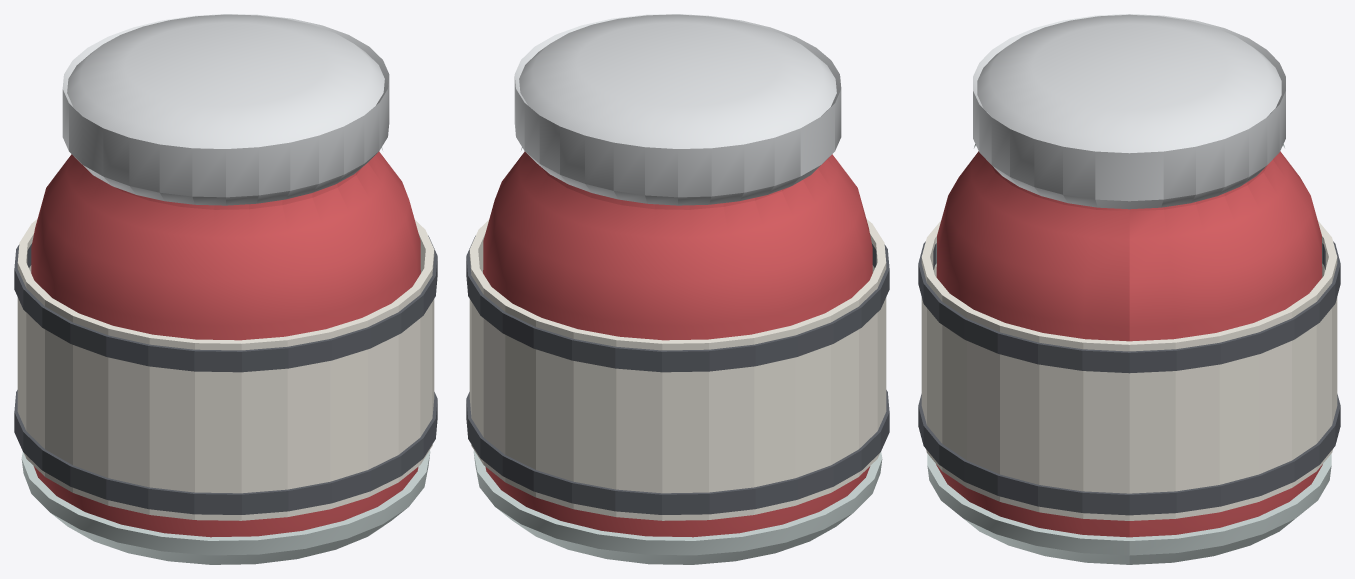
The model's file is fresh-produce-and-groceries-jam-jar-fe6b3c4c__24433.glb.
3 views of the same model, side by side, from view 1: azimuth 30°, elevation 25°; view 2: azimuth 150°, elevation 25°; view 3: azimuth 270°, elevation 25° (orthographic).
Parts seen in each view (by area): view 1: jam-jar; view 2: jam-jar; view 3: jam-jar.
Boxes of the visible parts, x1,y1,x2,y2 form: jam-jar: (14, 14, 437, 564); jam-jar: (466, 14, 889, 564); jam-jar: (918, 14, 1340, 564).
Size of the model in its own units: 0.0754 by 0.0834 by 0.0754.
